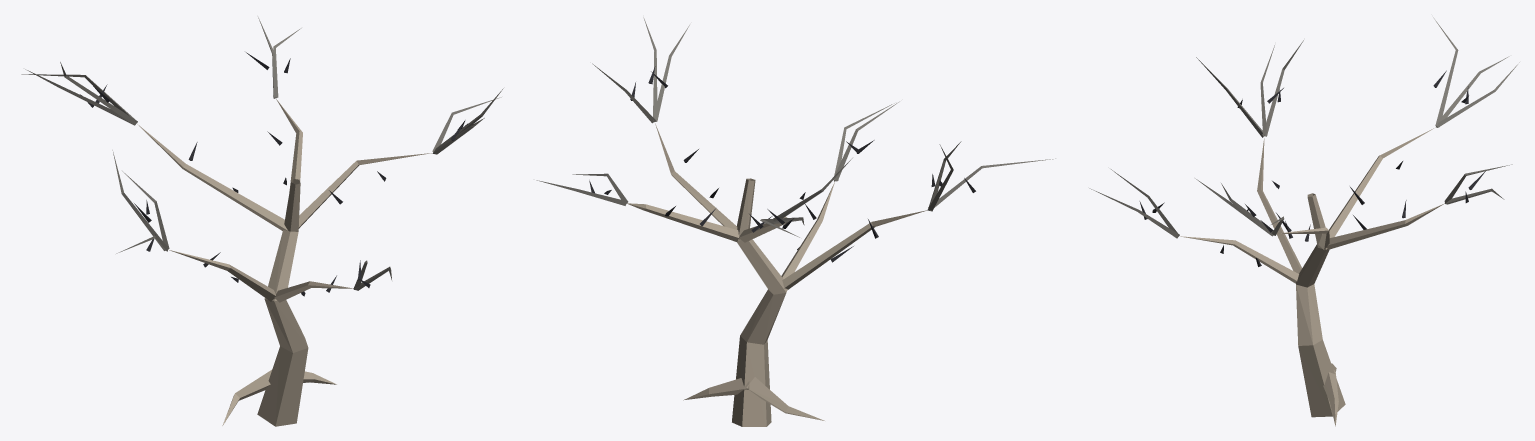
File: Circle7Piece_Tree15.obj
3 renders of one model, left to right at view 1: azimuth 30°, elevation 25°; view 2: azimuth 150°, elevation 25°; view 3: azimuth 270°, elevation 25°, orthographic. The views are drawn at different scales.
Parts seen in each view (by area): view 1: Circle7Piece_Tree15; view 2: Circle7Piece_Tree15; view 3: Circle7Piece_Tree15.
Part boxes in pixels (x1,y1,x2,y2): Circle7Piece_Tree15: (21,17,503,426); Circle7Piece_Tree15: (536,17,1055,426); Circle7Piece_Tree15: (1089,17,1519,426).
Bounding box in the file's own units: 7.97 × 6.29 × 7.57.
1 material, 1 textured.
